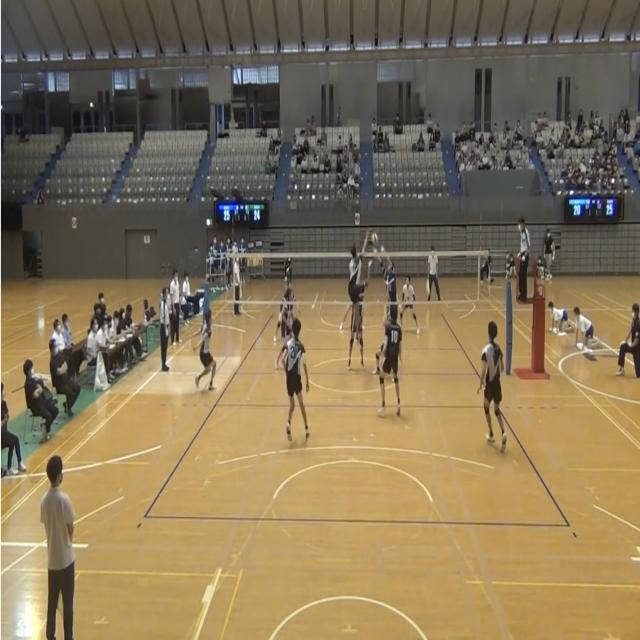spike: (338, 227, 372, 353)
